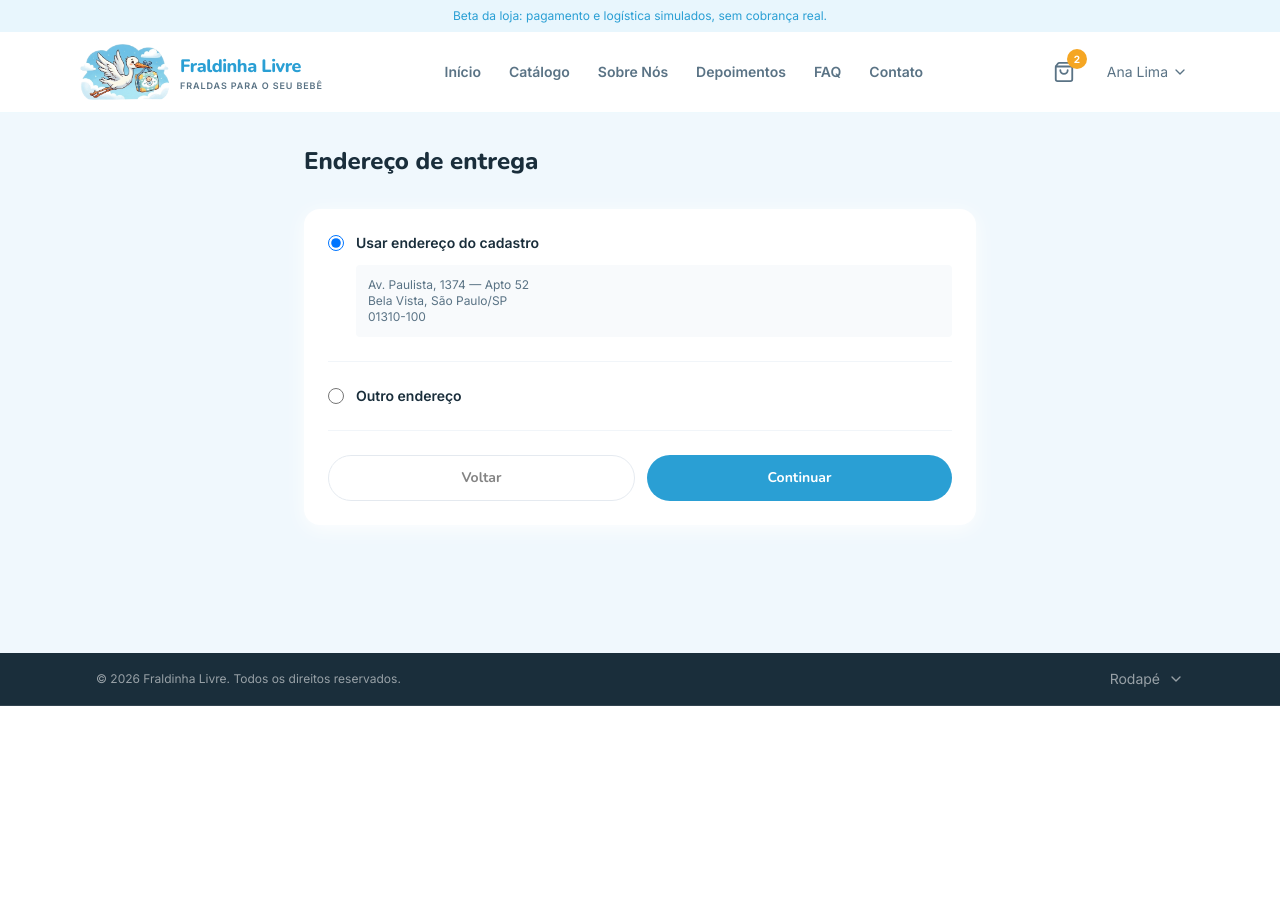
Test: CheckoutPage › Passo: Endereco › should enable continue button when custom address is valid
Select custom address
Click the radio button labelled "Outro endereço".
click(336, 396)  # box [328,388,344,404]
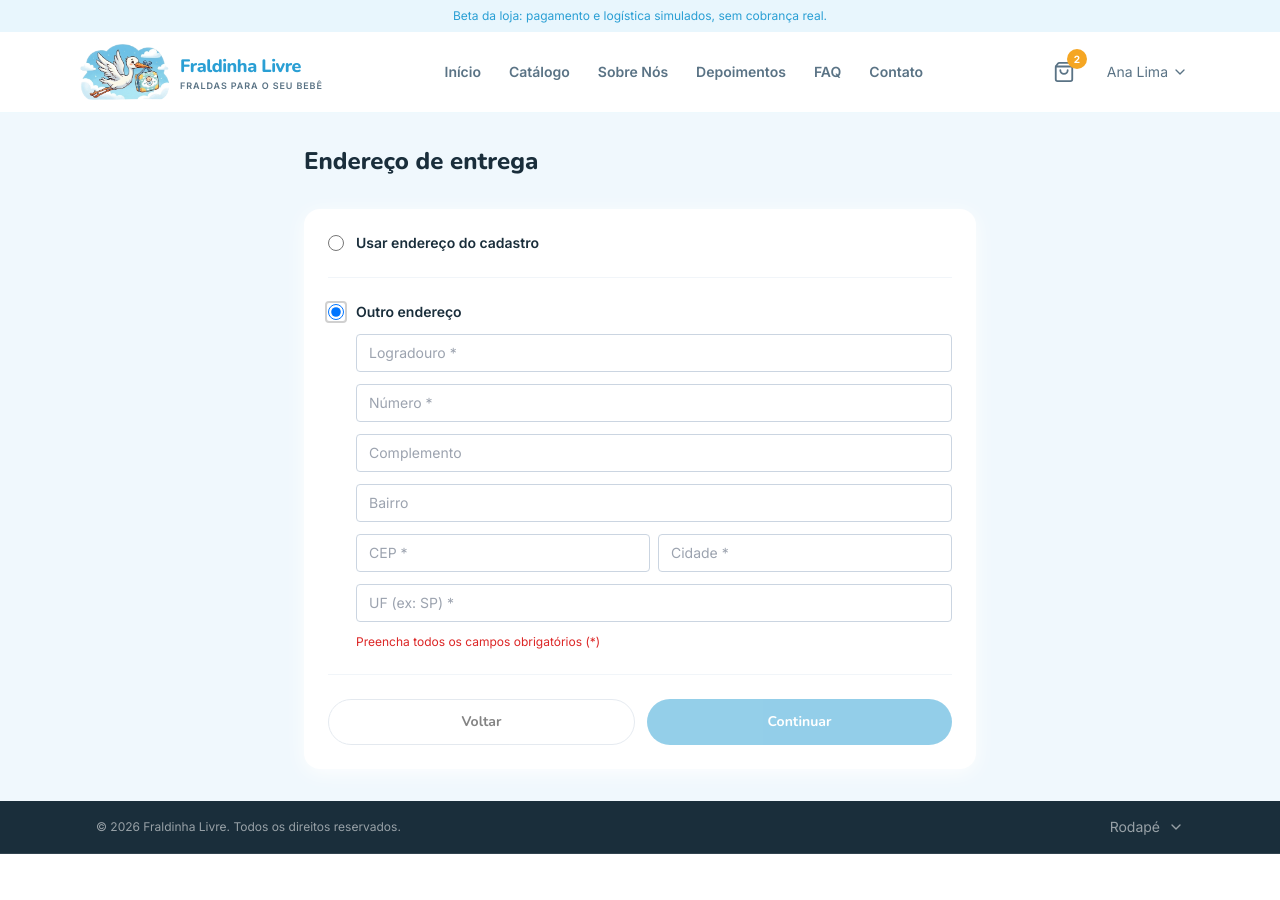
Fill required fields
Type "Rua A" into the field with placeholder "Logradouro *".
click(654, 353); type("Rua A")  # box [356,334,952,372]
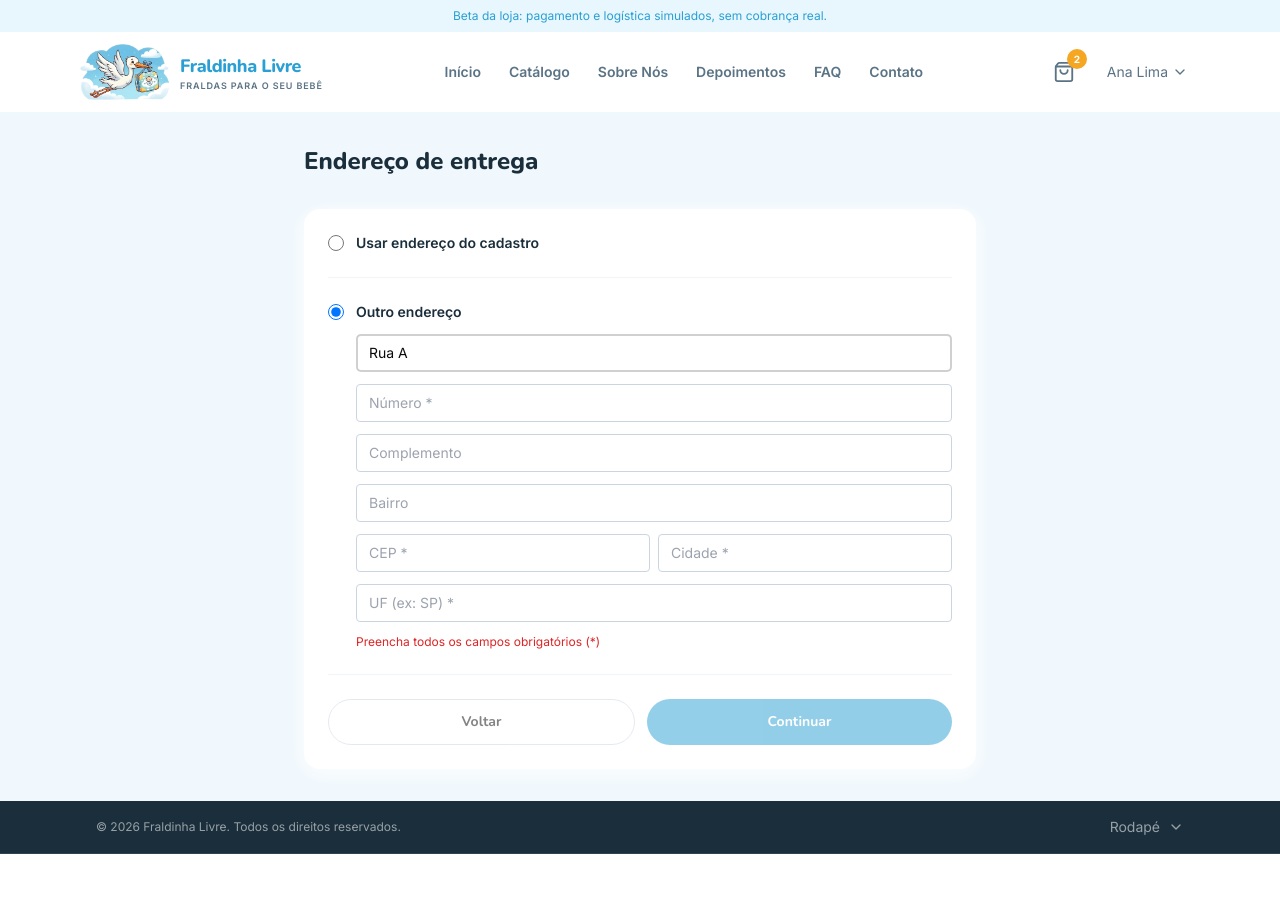
Type "123" into the field with placeholder "Número *".
click(654, 403); type("123")  # box [356,384,952,422]
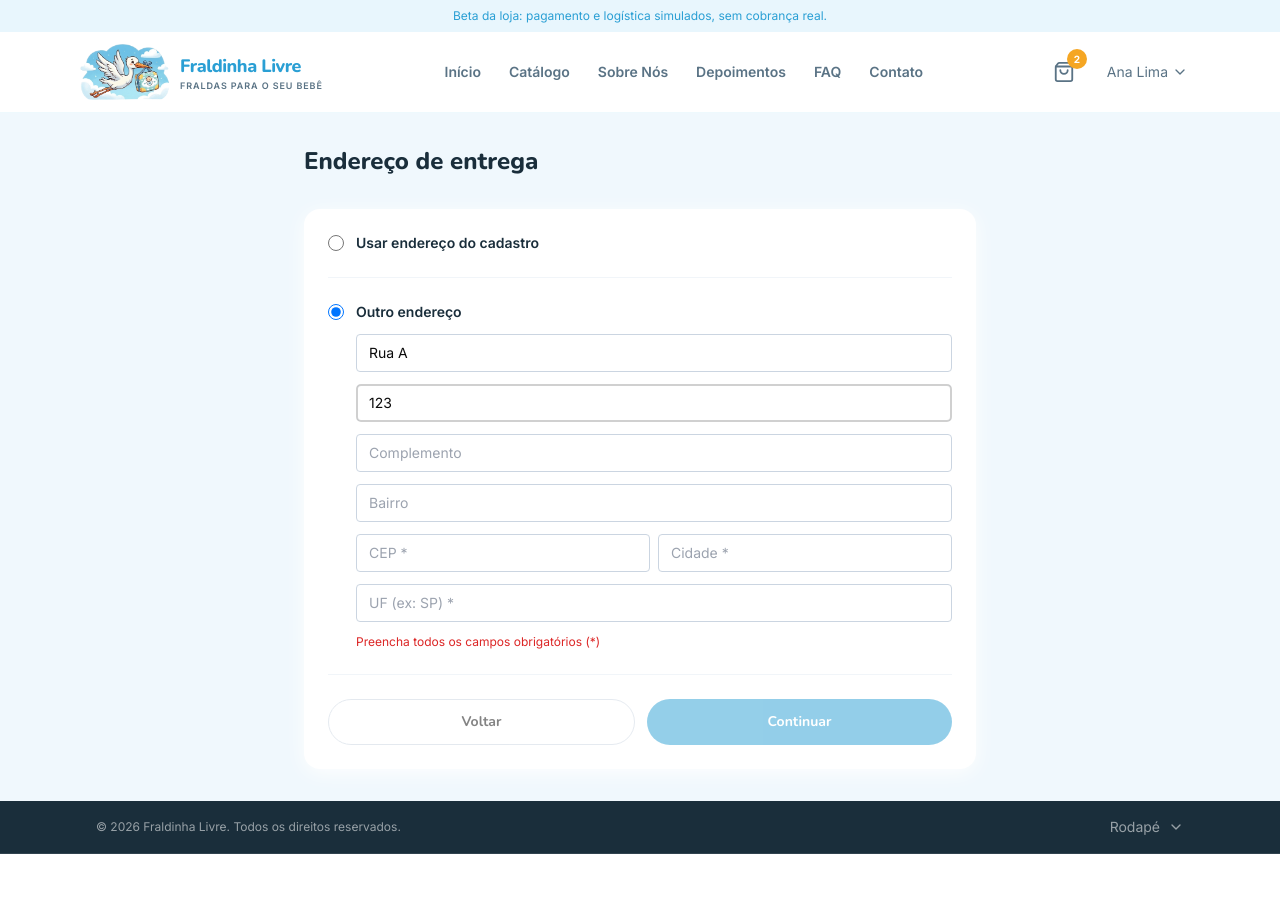
Type "12345-678" into the field with placeholder "CEP *".
click(503, 553); type("12345-678")  # box [356,534,650,572]
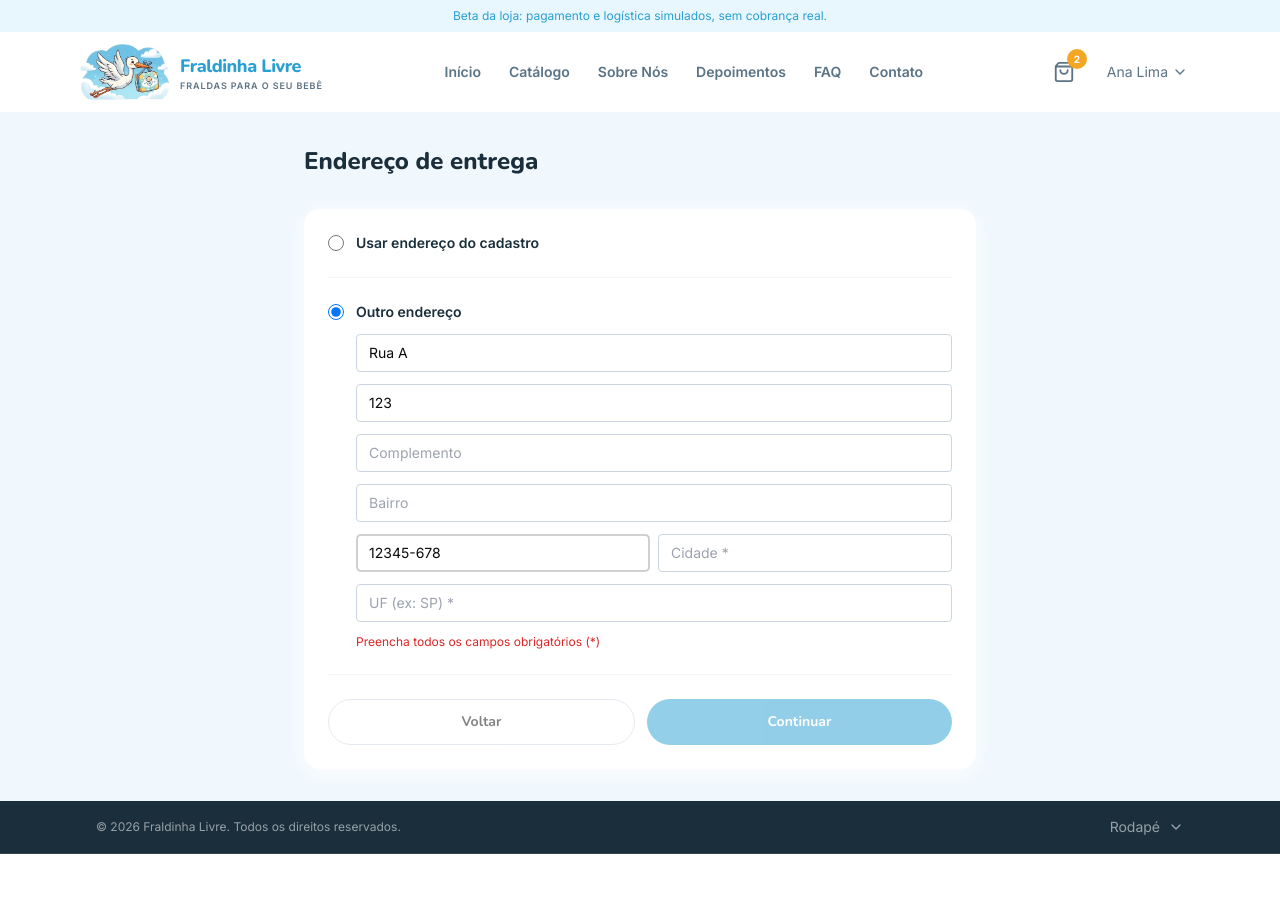
Type "São Paulo" into the field with placeholder "Cidade *".
click(805, 553); type("São Paulo")  # box [658,534,952,572]
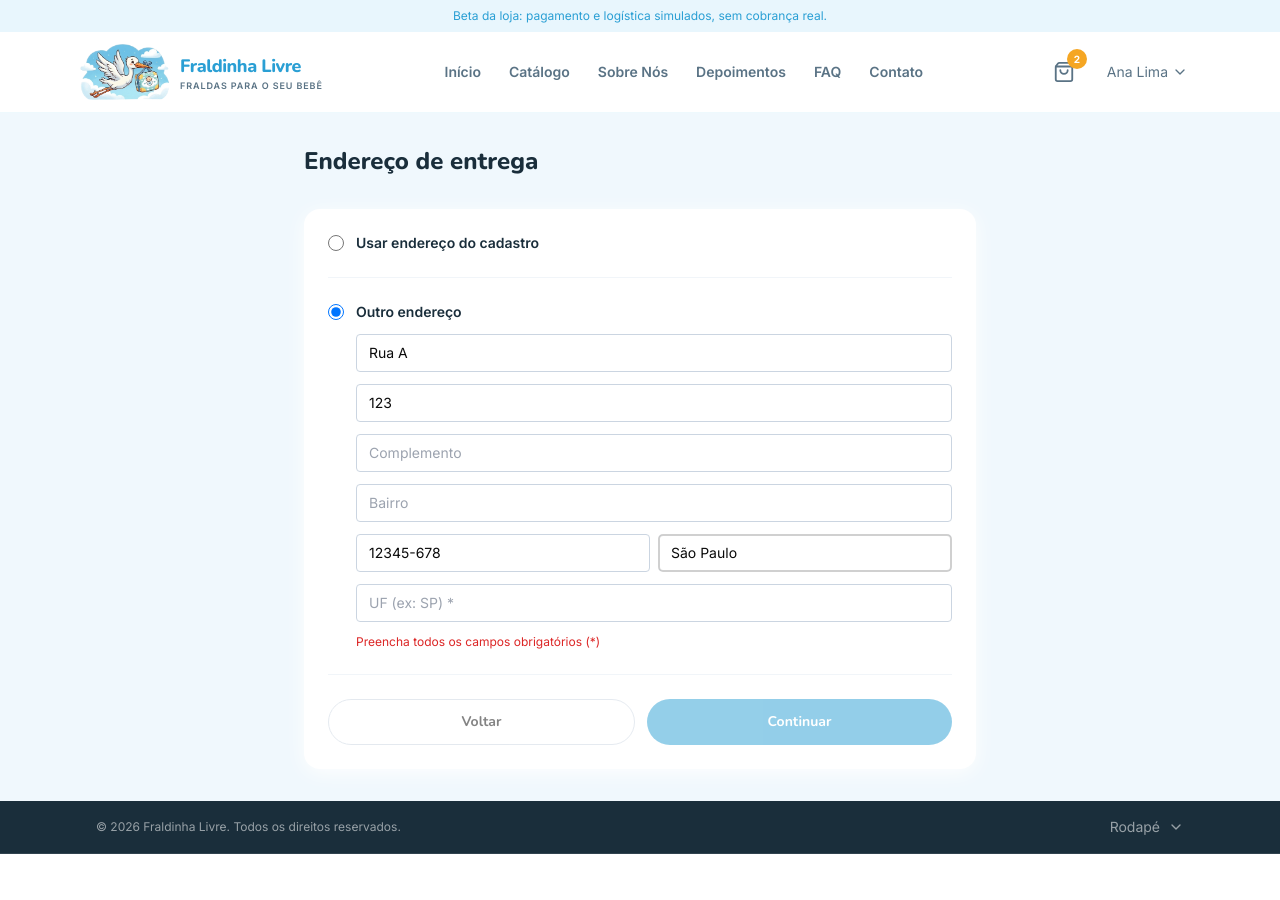
Type "SP" into the field with placeholder "UF (ex: SP) *".
click(654, 603); type("SP")  # box [356,584,952,622]
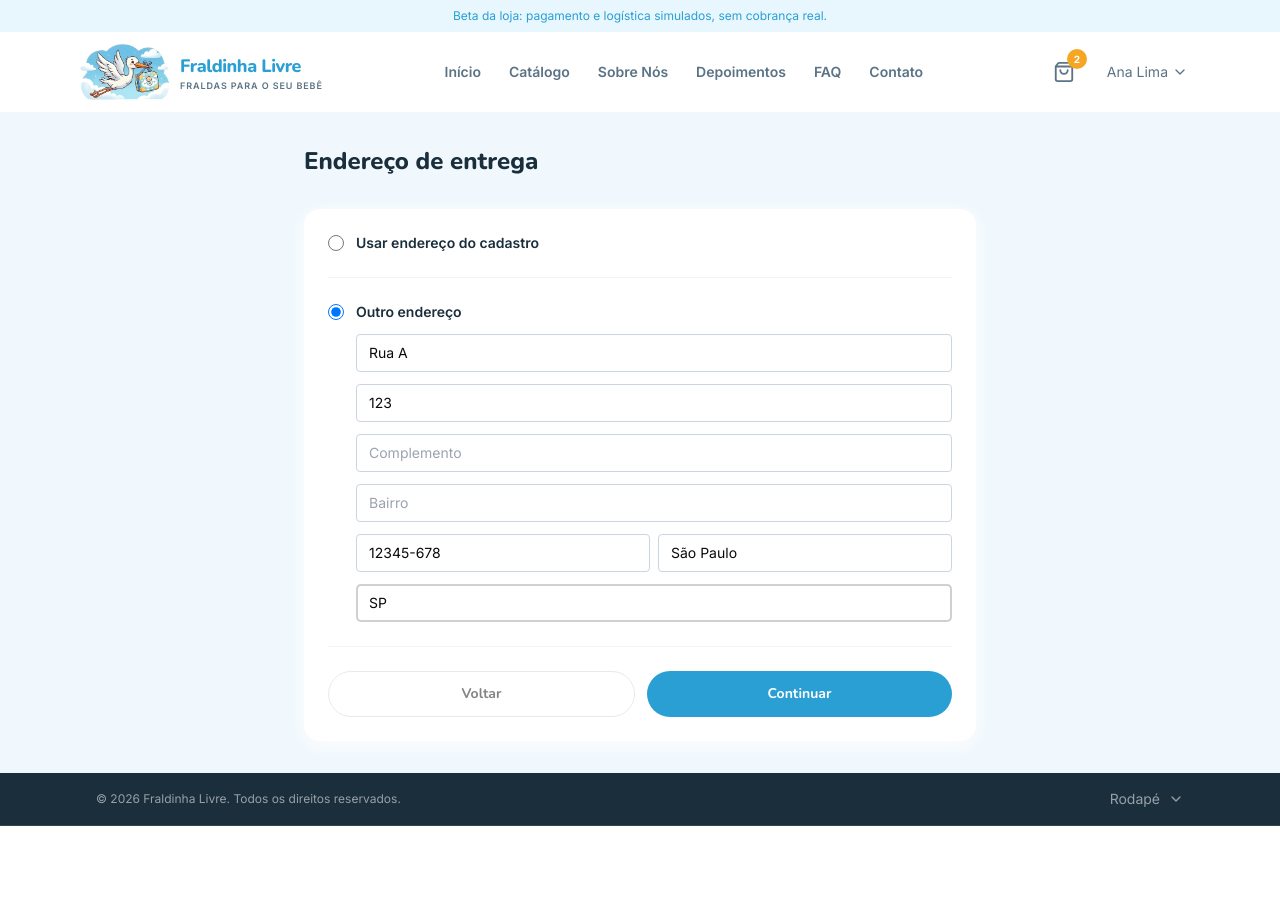
expect the button "Continuar" is enabled: met, box [647,671,952,717]
